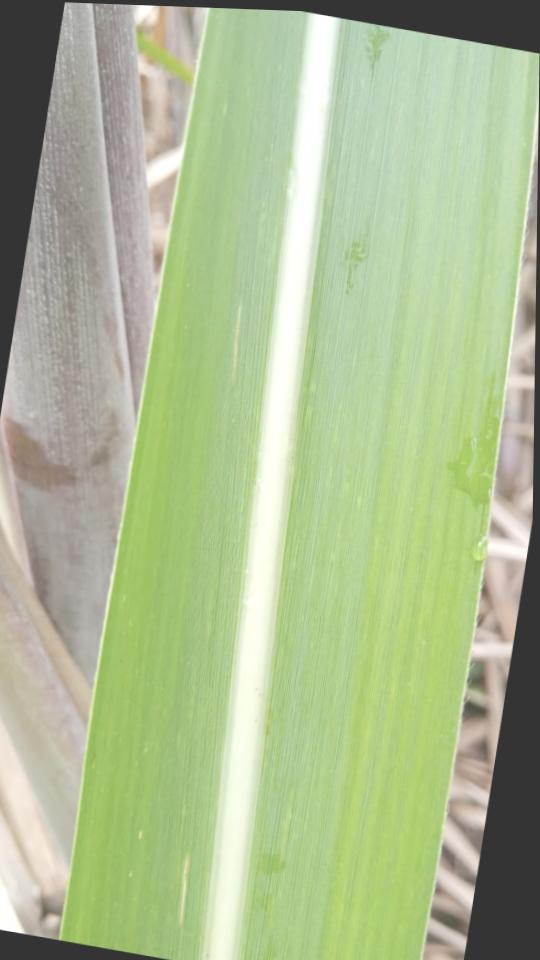Healthy: (60, 8, 540, 960)
